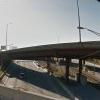Bridge: (2, 36, 100, 70)
